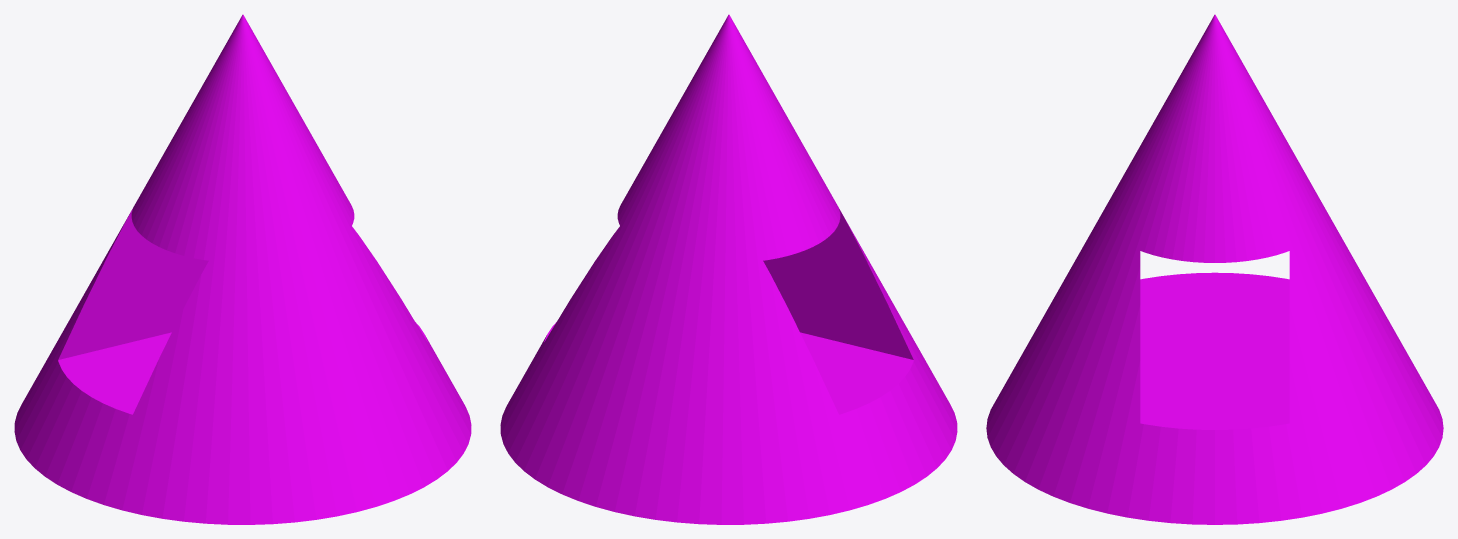
The model's file is var_1.glb.
3 views of the same model, side by side, from view 1: azimuth 30°, elevation 25°; view 2: azimuth 150°, elevation 25°; view 3: azimuth 270°, elevation 25° (orthographic).
Parts seen in each view (by area): view 1: var_1; view 2: var_1; view 3: var_1.
Boxes of the visible parts, x1,y1,x2,y2 form: var_1: (14, 14, 471, 524); var_1: (500, 14, 957, 524); var_1: (986, 14, 1443, 524).
Bounding box in the file's own units: 2 × 2 × 2.
